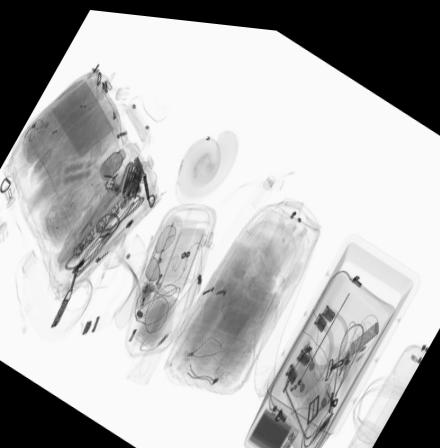Powerbank: (245, 399, 302, 448)
